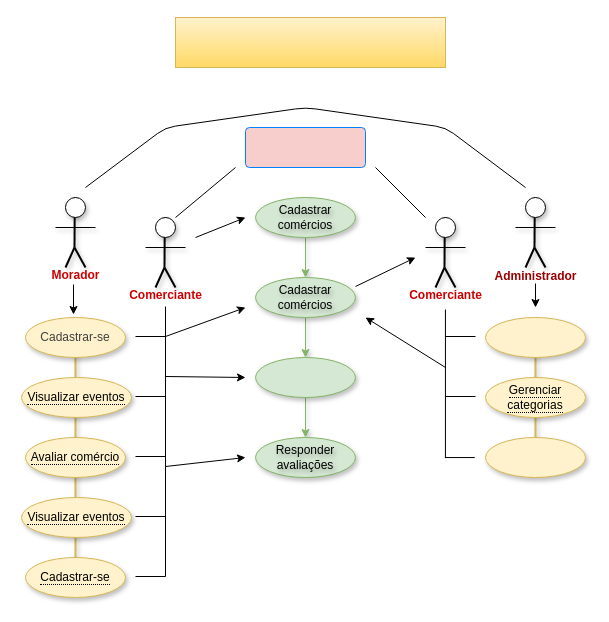
Some shapes in this 609 by 622 pixel diagram are drawn without their labels. The centre of each missing label's shape, as x and y in pixels:
"CIDADE VIRTUAL" goes at (x=305, y=147).
"Diagrama de Caso de Uso" goes at (x=310, y=42).
"Gerar relatórios" goes at (x=536, y=458).
"Gerenciar serviços" goes at (x=306, y=378).
"Moderar cadastros" goes at (x=536, y=338).
